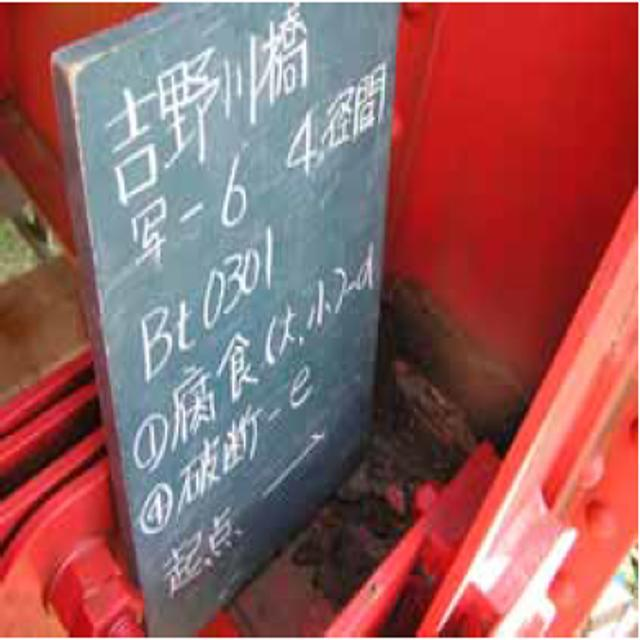corrosion: (328, 259, 503, 570)
